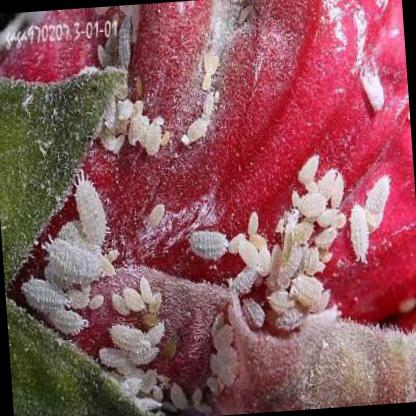mealy bug: (45, 239, 103, 286), (75, 177, 106, 248), (20, 279, 63, 313), (46, 308, 88, 337), (350, 206, 368, 266), (110, 326, 148, 353), (188, 233, 227, 258), (290, 275, 323, 304), (365, 177, 390, 213), (296, 191, 326, 217), (231, 266, 255, 293), (236, 240, 259, 268), (98, 348, 130, 368), (267, 292, 294, 312), (277, 311, 302, 331)
